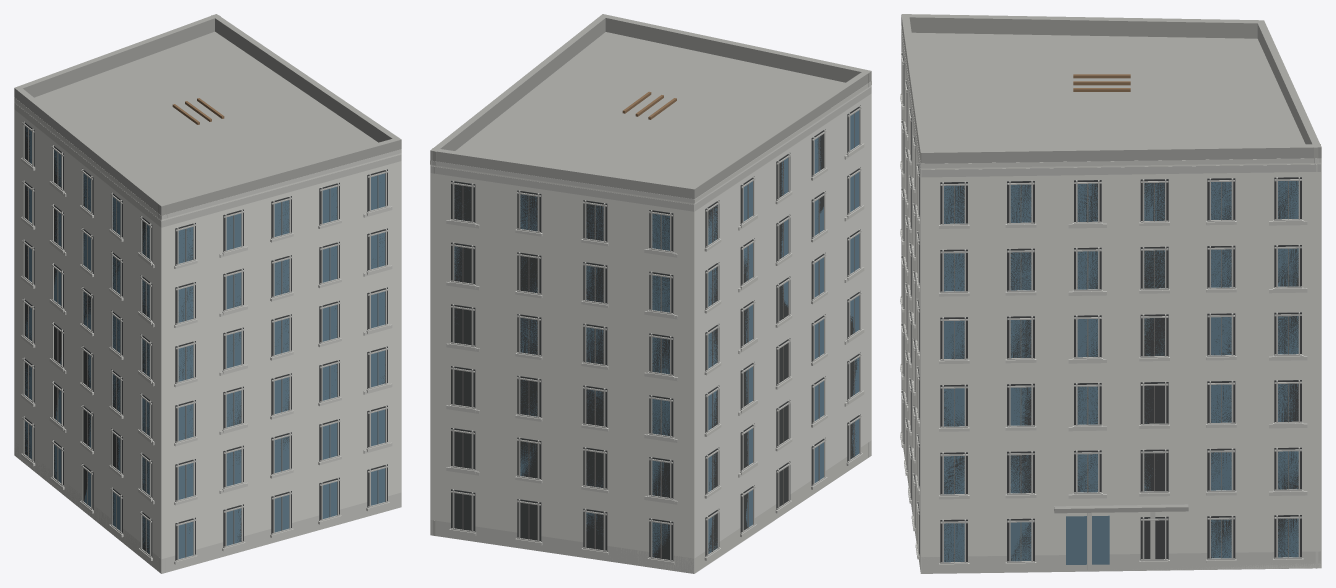
Rendered from cop_residencial_anos70_05__way_588408933.fbx.
3 views of the same model, side by side, from view 1: azimuth 30°, elevation 25°; view 2: azimuth 150°, elevation 25°; view 3: azimuth 270°, elevation 25° (orthographic). The views are drawn at different scales.
Visible parts, largest first — view 1: cop_residencial_anos70_05__way_588408933_wall, cop_residencial_anos70_05__way_588408933_roof, cop_residencial_anos70_05__way_588408933_glass, cop_residencial_anos70_05__way_588408933_trim, cop_residencial_anos70_05__way_588408933_shadow, cop_residencial_anos70_05__way_588408933_stone, cop_residencial_anos70_05__way_588408933_metal; view 2: cop_residencial_anos70_05__way_588408933_wall, cop_residencial_anos70_05__way_588408933_roof, cop_residencial_anos70_05__way_588408933_shadow, cop_residencial_anos70_05__way_588408933_trim, cop_residencial_anos70_05__way_588408933_glass, cop_residencial_anos70_05__way_588408933_stone, cop_residencial_anos70_05__way_588408933_metal; view 3: cop_residencial_anos70_05__way_588408933_wall, cop_residencial_anos70_05__way_588408933_roof, cop_residencial_anos70_05__way_588408933_shadow, cop_residencial_anos70_05__way_588408933_glass, cop_residencial_anos70_05__way_588408933_trim, cop_residencial_anos70_05__way_588408933_stone, cop_residencial_anos70_05__way_588408933_metal, cop_residencial_anos70_05__way_588408933_wood.
Part boxes in pixels (x1,y1,x2,y2): cop_residencial_anos70_05__way_588408933_wall: [14, 101, 401, 573]; cop_residencial_anos70_05__way_588408933_roof: [14, 14, 401, 217]; cop_residencial_anos70_05__way_588408933_glass: [24, 127, 385, 558]; cop_residencial_anos70_05__way_588408933_trim: [14, 103, 401, 561]; cop_residencial_anos70_05__way_588408933_shadow: [23, 121, 387, 560]; cop_residencial_anos70_05__way_588408933_stone: [14, 97, 401, 573]; cop_residencial_anos70_05__way_588408933_metal: [28, 129, 378, 557]; cop_residencial_anos70_05__way_588408933_wall: [430, 85, 871, 573]; cop_residencial_anos70_05__way_588408933_roof: [430, 14, 871, 198]; cop_residencial_anos70_05__way_588408933_shadow: [451, 105, 860, 561]; cop_residencial_anos70_05__way_588408933_trim: [430, 87, 871, 561]; cop_residencial_anos70_05__way_588408933_glass: [454, 110, 859, 557]; cop_residencial_anos70_05__way_588408933_stone: [430, 81, 871, 573]; cop_residencial_anos70_05__way_588408933_metal: [462, 113, 854, 558]; cop_residencial_anos70_05__way_588408933_wall: [901, 39, 1321, 573]; cop_residencial_anos70_05__way_588408933_roof: [901, 14, 1321, 513]; cop_residencial_anos70_05__way_588408933_shadow: [902, 53, 1301, 563]; cop_residencial_anos70_05__way_588408933_glass: [944, 181, 1298, 564]; cop_residencial_anos70_05__way_588408933_trim: [901, 32, 1320, 563]; cop_residencial_anos70_05__way_588408933_stone: [900, 26, 1321, 573]; cop_residencial_anos70_05__way_588408933_metal: [906, 91, 1288, 562]; cop_residencial_anos70_05__way_588408933_wood: [1073, 74, 1130, 91].
Size of the model in its own units: 1336 by 1877 by 1696.
